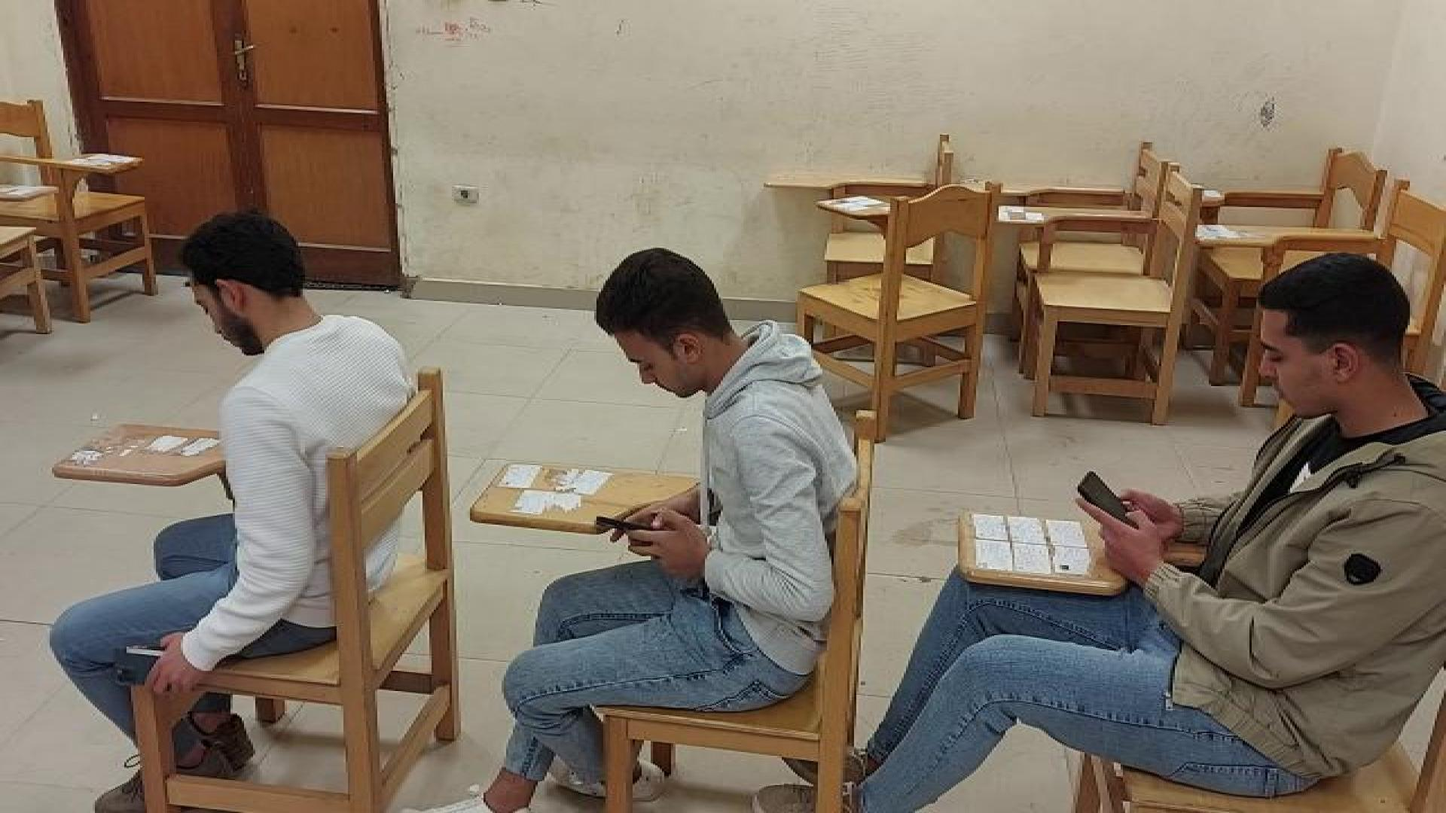phone: (1072, 471, 1140, 527), (105, 644, 193, 683), (594, 515, 657, 531)
